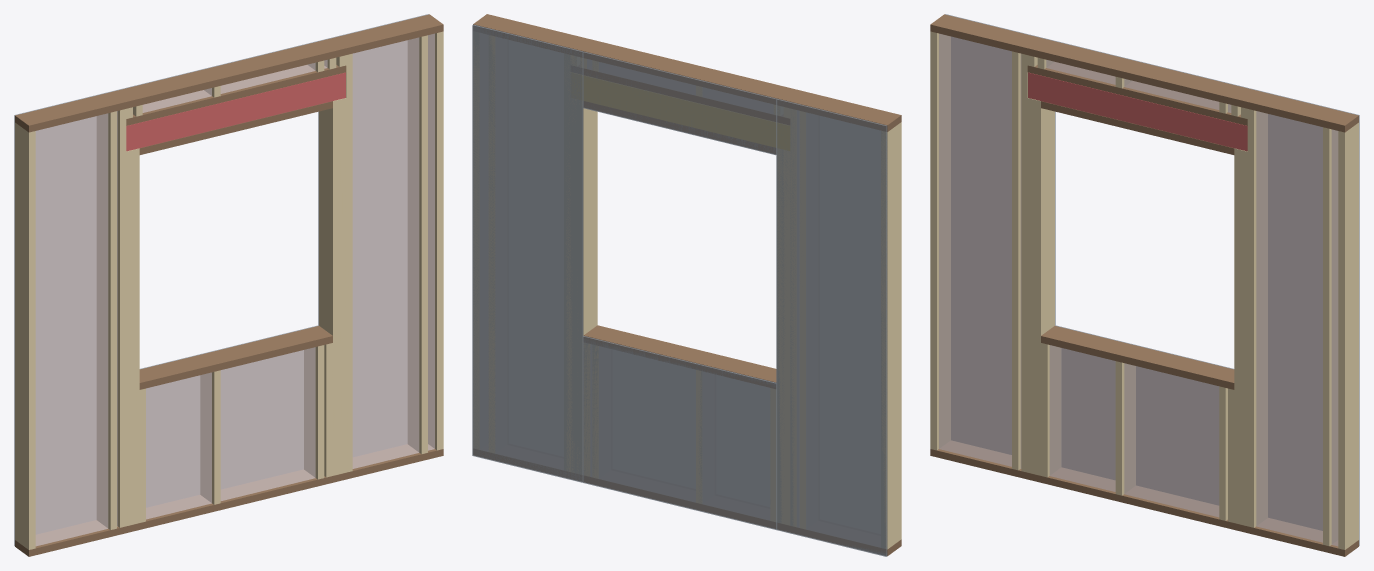
The picture shows the model from 3 angles, left to right: view 1: azimuth 30°, elevation 25°; view 2: azimuth 150°, elevation 25°; view 3: azimuth 330°, elevation 25°; orthographic projection.
Parts seen in each view (by area): view 1: EX18 GF; view 2: EX18 GF; view 3: EX18 GF.
Boxes of the visible parts, bbox=[...] form: EX18 GF: bbox=[14, 14, 443, 556]; EX18 GF: bbox=[472, 14, 901, 556]; EX18 GF: bbox=[930, 14, 1359, 556].
Bounding box in the file's own units: 2.4 × 2.39 × 0.149.
